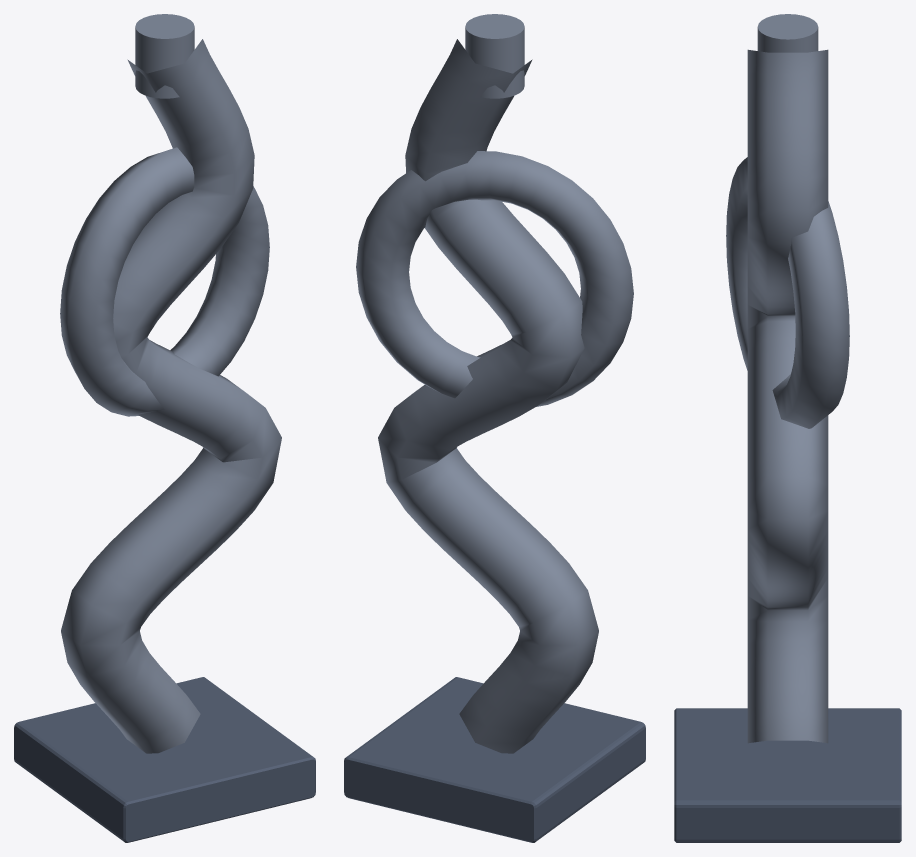
Rendered from floor-sculpture-lite.glb.
3 renders of one model, left to right at view 1: azimuth 30°, elevation 25°; view 2: azimuth 150°, elevation 25°; view 3: azimuth 270°, elevation 25°, orthographic. The views are drawn at different scales.
Visible parts, largest first — view 1: body, dark, accent; view 2: body, accent, dark; view 3: body, dark, accent.
Boxes of the visible parts, x1,y1,x2,y2 form: body: (61, 14, 281, 753); dark: (14, 677, 315, 842); accent: (60, 147, 269, 416); body: (378, 14, 598, 753); accent: (356, 151, 633, 406); dark: (344, 677, 645, 842); body: (747, 14, 828, 743); dark: (674, 708, 901, 842); accent: (726, 157, 849, 428).
Size of the model in its own units: 0.3305 by 1.01 by 0.27.
